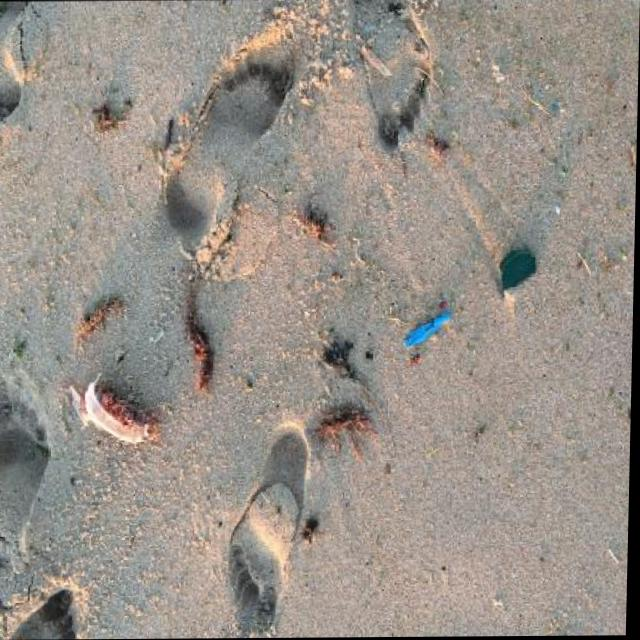plastic: (66, 370, 151, 442), (498, 247, 539, 294), (405, 310, 452, 347), (353, 32, 392, 75)
